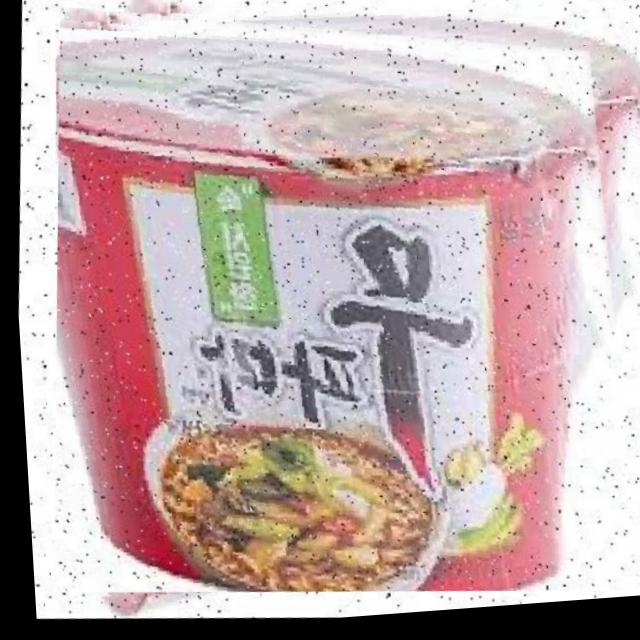Miscellaneous: (18, 0, 640, 633)
